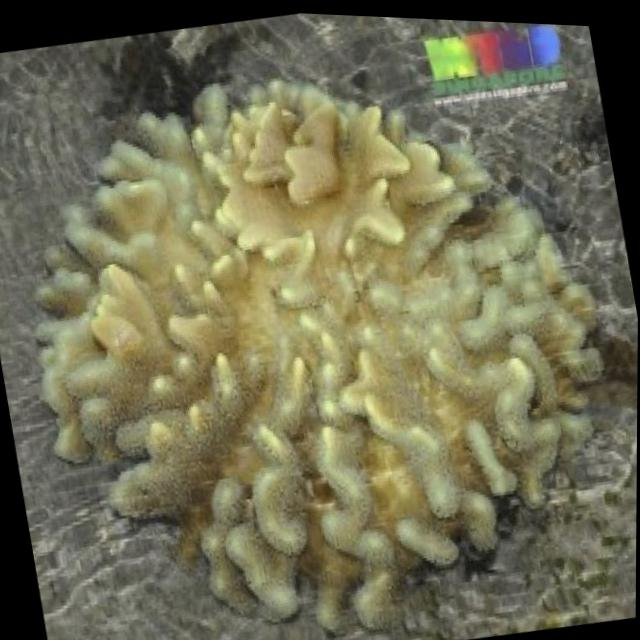Bleached Coral: (18, 63, 581, 636)
